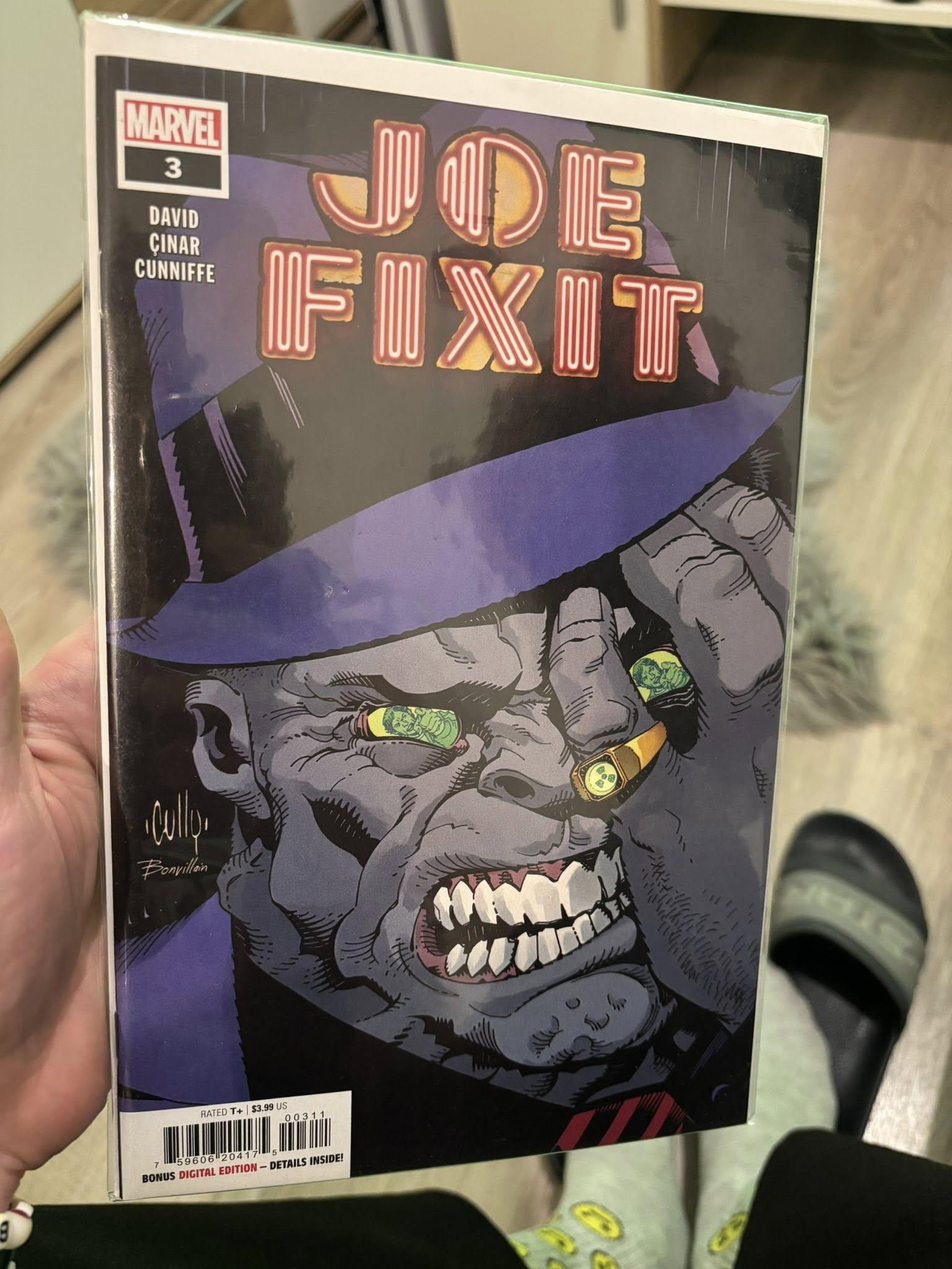comic: (84, 9, 841, 1198)
